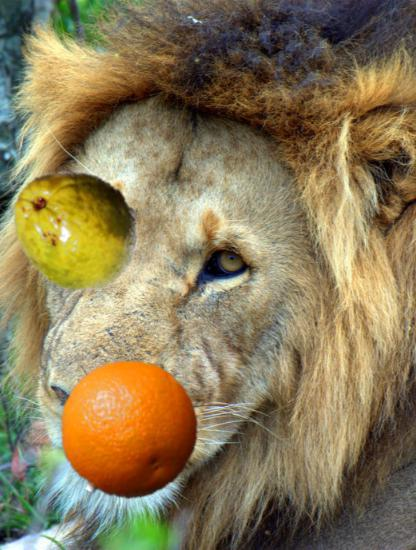Guava: (10, 162, 144, 296)
Orange: (56, 360, 199, 503)
